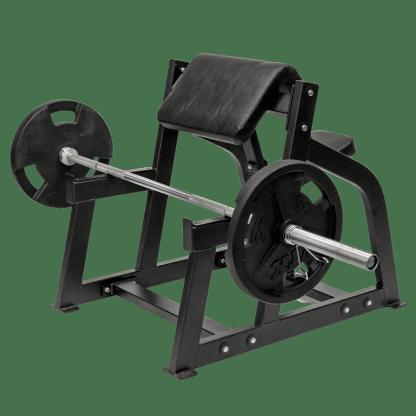arm curl machine: (10, 52, 409, 378)
